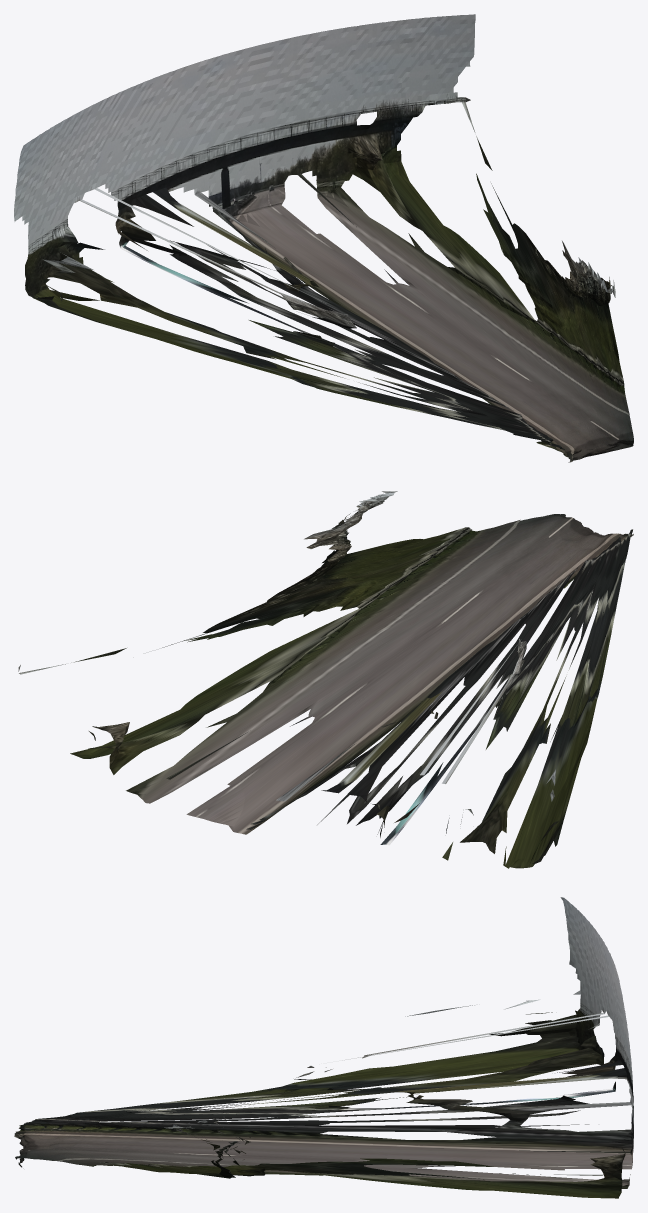
3 renders of one model, top to bottom at view 1: azimuth 30°, elevation 25°; view 2: azimuth 150°, elevation 25°; view 3: azimuth 270°, elevation 25°, orthographic. The views are drawn at different scales.
Visible parts, largest first — view 1: defaultobject; view 2: defaultobject; view 3: defaultobject.
Boxes of the visible parts, x1,y1,x2,y2 form: defaultobject: (14,14,633,462); defaultobject: (18,491,633,868); defaultobject: (14,897,633,1198).
Size of the model in its own units: 35.23 by 12.58 by 44.51.
1 material, 1 textured.
